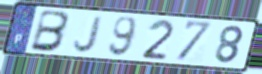2: (140, 18, 175, 62)
7: (174, 19, 214, 63)
8: (214, 24, 244, 65)
9: (107, 16, 139, 58)
B: (28, 8, 73, 53)
J: (72, 15, 106, 54)
